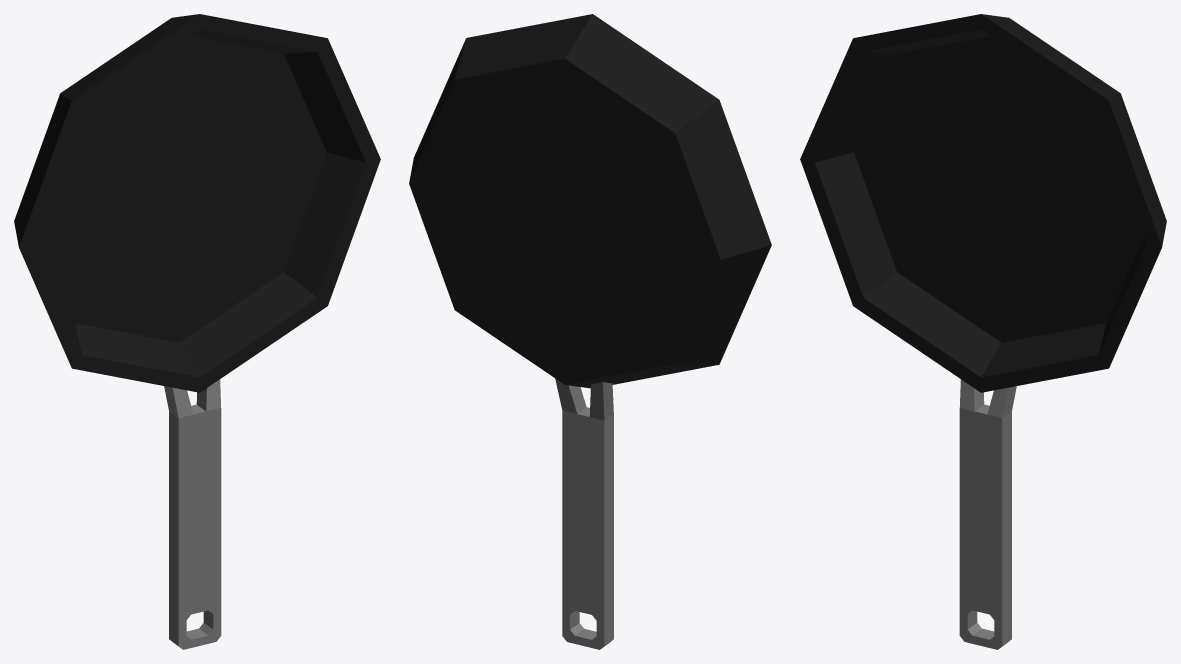
The model's file is Frying Pan.obj.
The picture shows the model from 3 angles, left to right: view 1: azimuth 30°, elevation 25°; view 2: azimuth 150°, elevation 25°; view 3: azimuth 330°, elevation 25°; orthographic projection.
Parts seen in each view (by area): view 1: Frying_Pan_Plane.008; view 2: Frying_Pan_Plane.008; view 3: Frying_Pan_Plane.008.
Part boxes in pixels (bbox=[...]): Frying_Pan_Plane.008: bbox=[14, 14, 380, 649]; Frying_Pan_Plane.008: bbox=[409, 14, 771, 649]; Frying_Pan_Plane.008: bbox=[800, 14, 1166, 649].
Size of the model in its own units: 0.2177 by 0.3631 by 0.0294.
